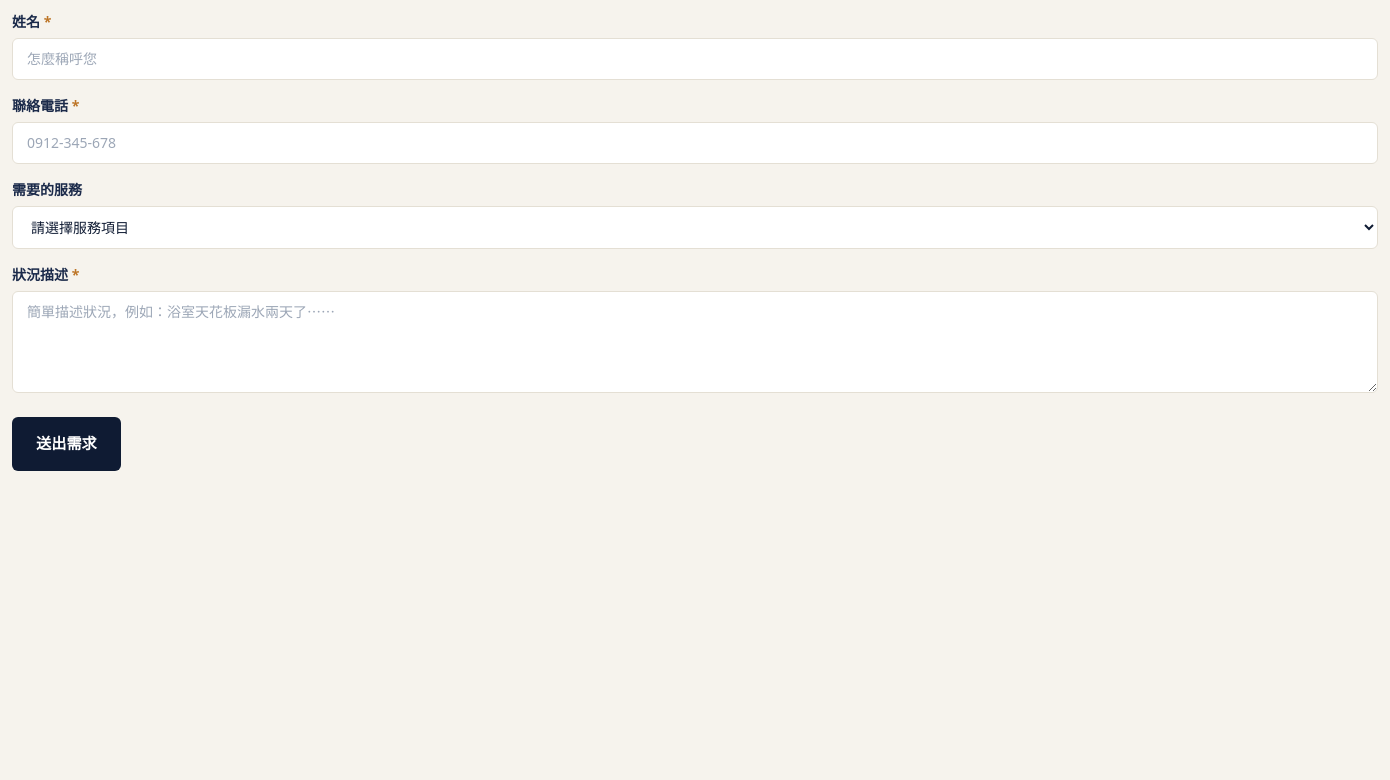
Test: ContactForm › shows validation errors for empty required fields
Step 1. Click the button "送出需求" → (66, 444), box [12,417,121,471]
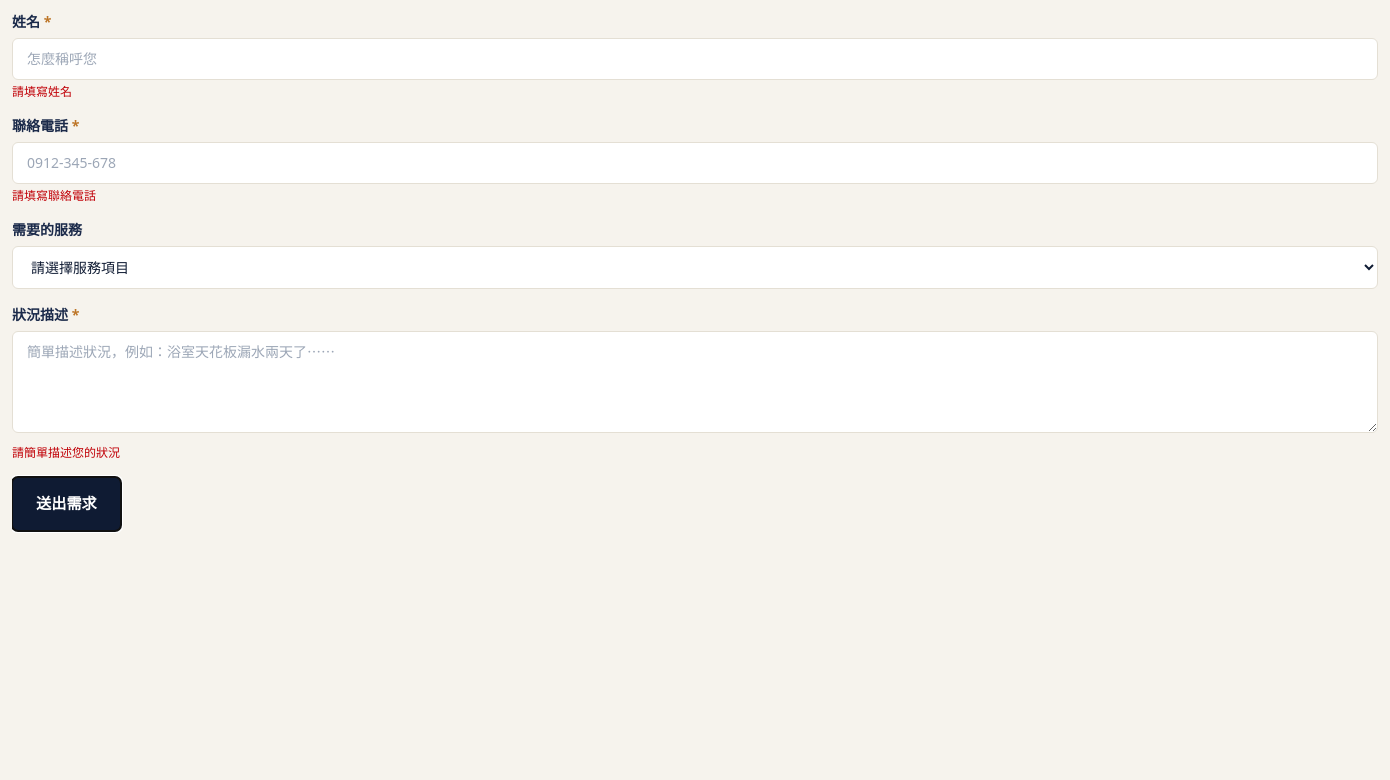
Result: the text "請填寫姓名" is shown at [12,83,72,100]
Result: the text "請填寫聯絡電話" is shown at [12,187,96,204]
Result: the text "請簡單描述您的狀況" is shown at [12,444,120,461]
